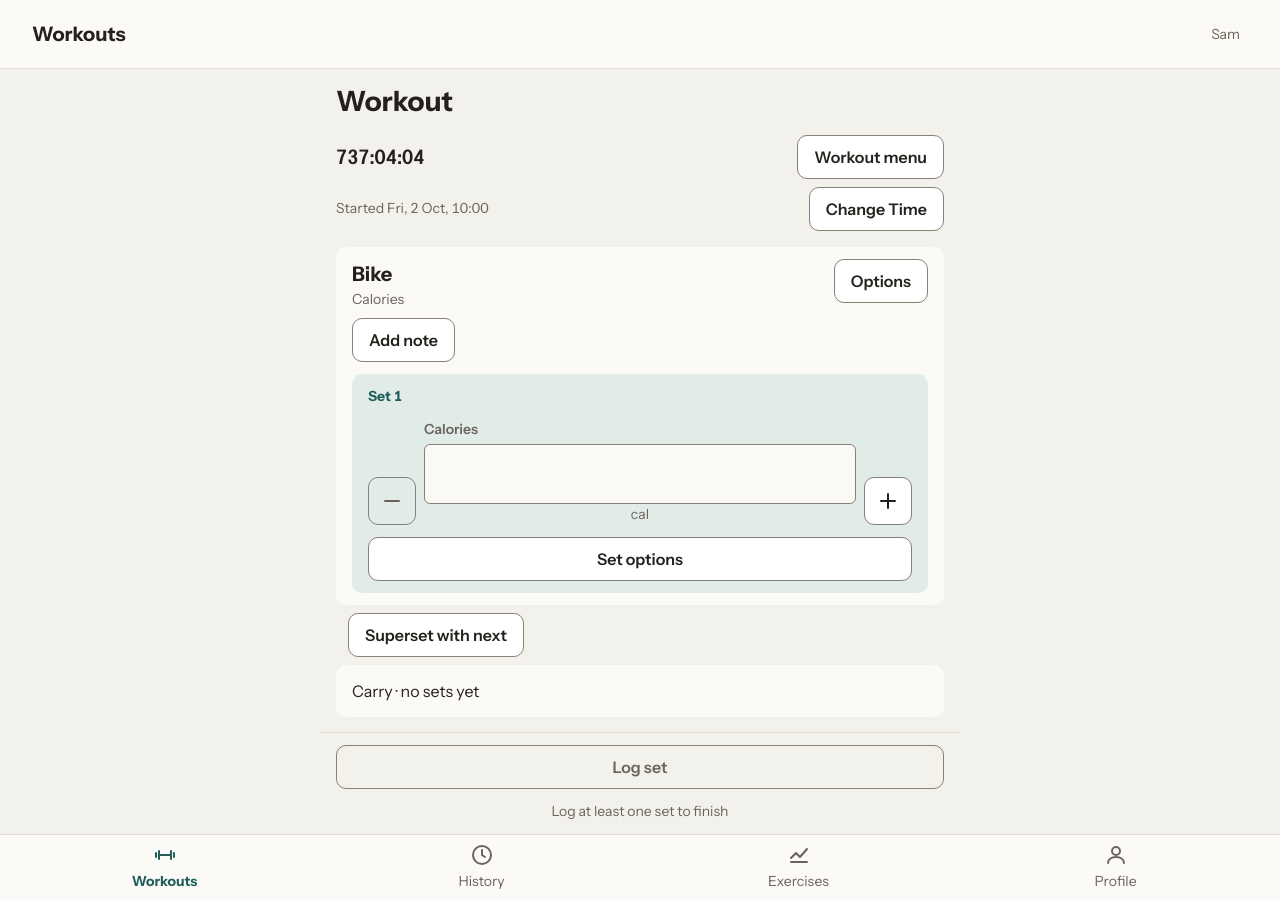
18.1 AC16 — logging the new types › a replay after a lost response leaves one set
Check: the heading "Workout" is shown, box [336,84,453,118]
In the field labelled "Calories": {"x": 640, "y": 474} [424,444,856,504], type "20"
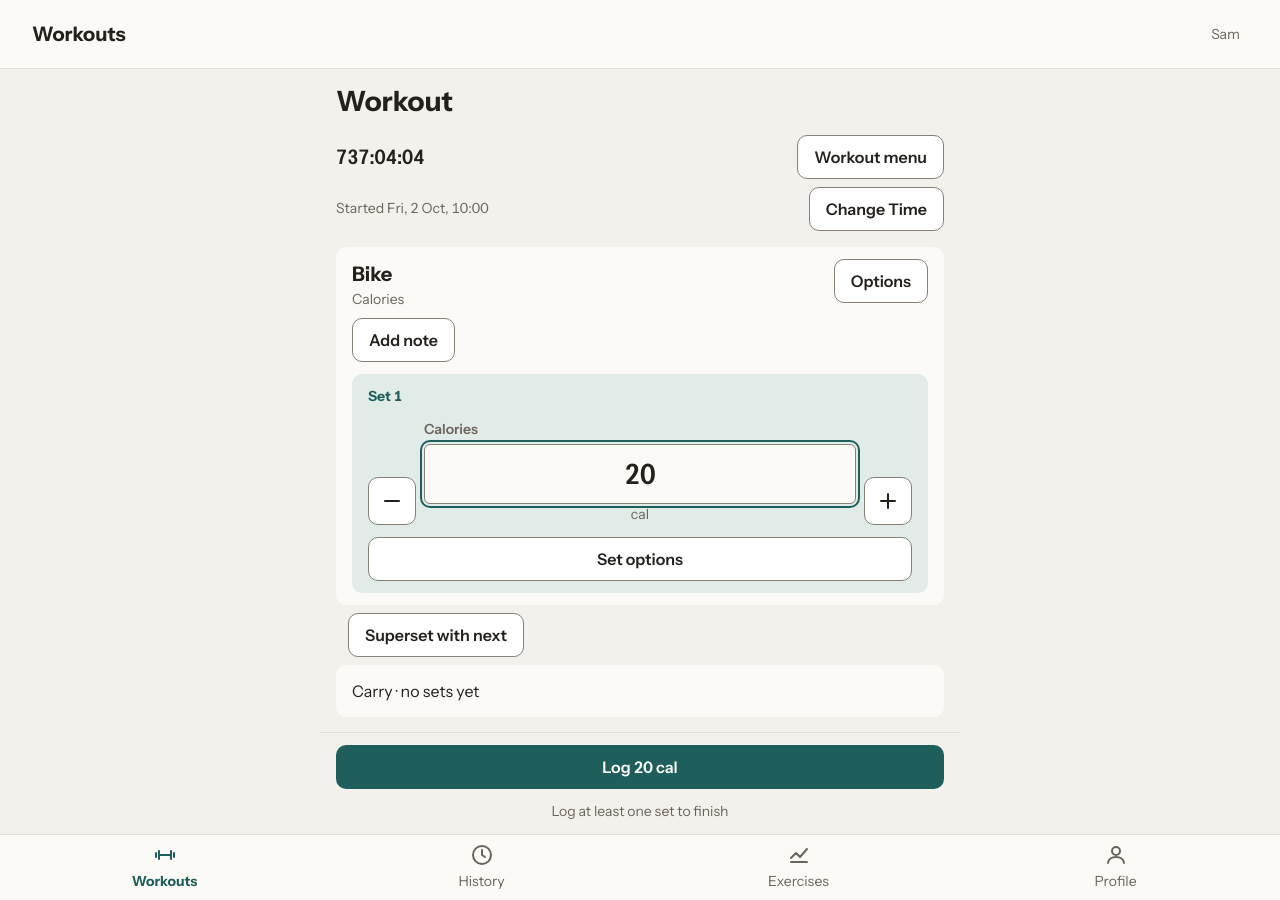
Click the button "Log 20 cal": {"x": 640, "y": 767} [336,745,944,789]
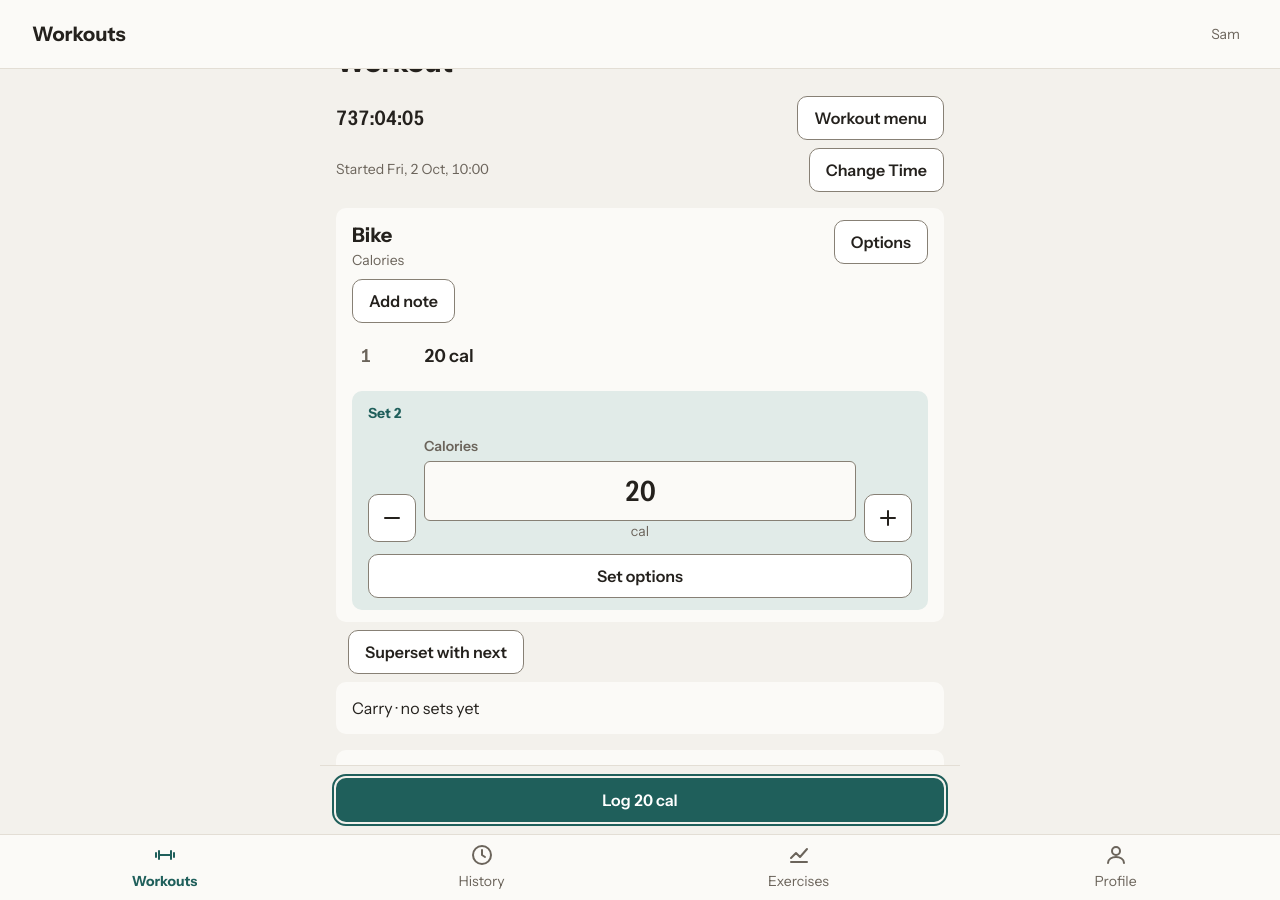
Check: the number of buttons "1 20 cal" is 1, box [352,335,928,379]
